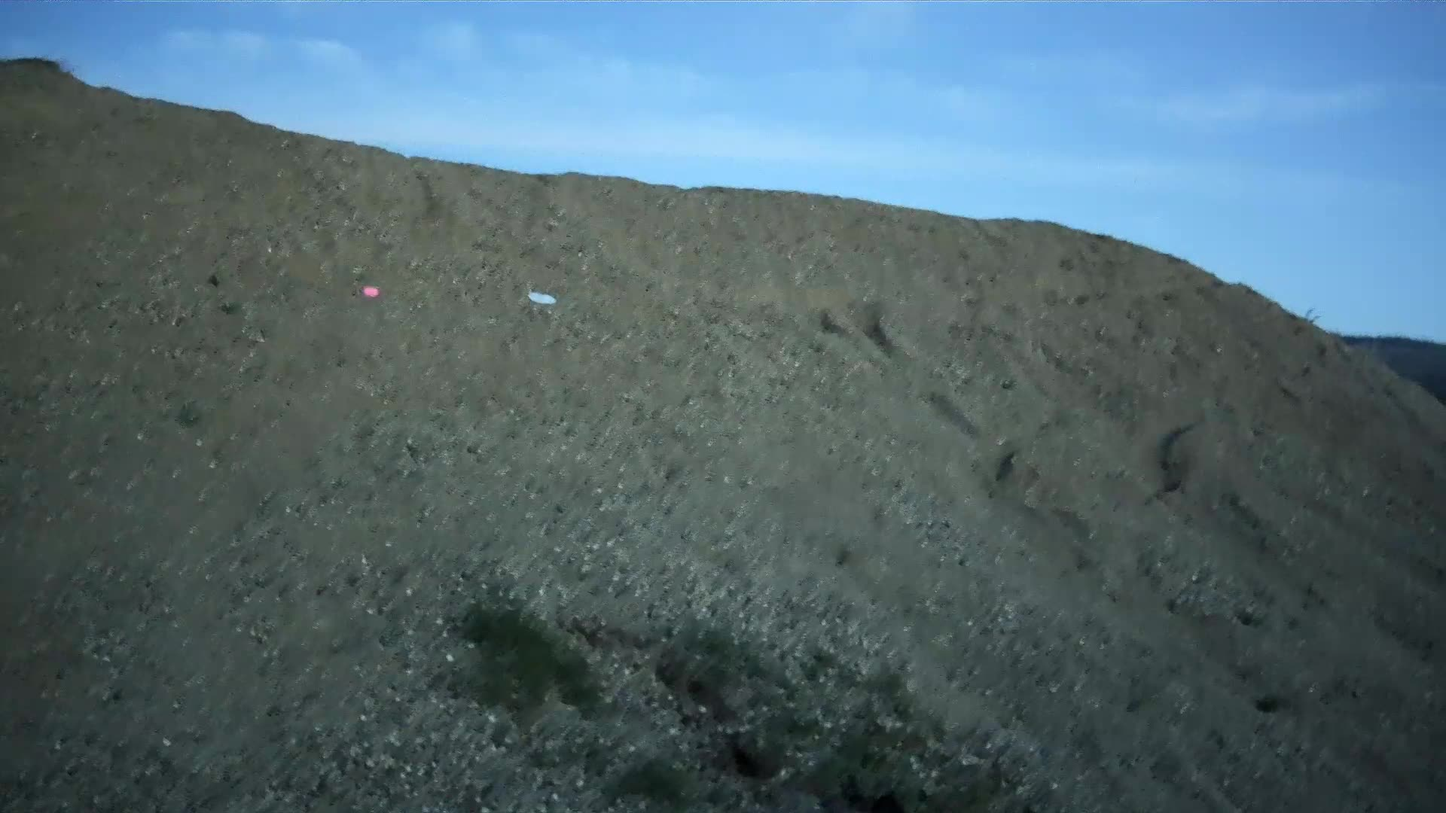Target: (527, 291, 558, 305)
